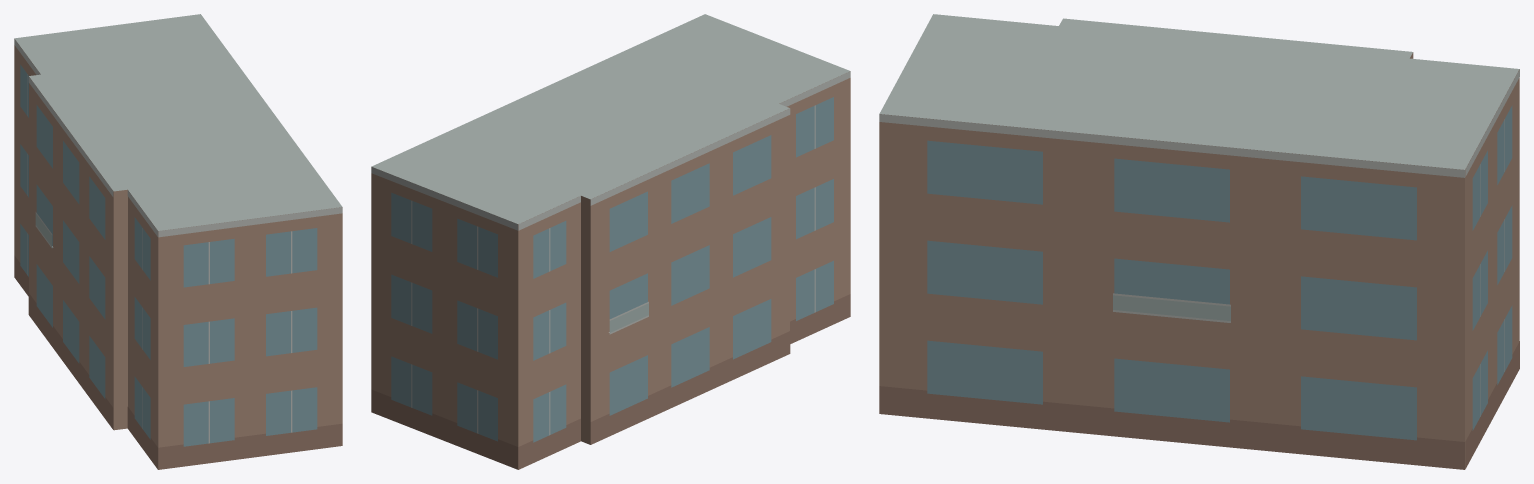
The model's file is survey-upis-32803882.glb.
3 views of the same model, side by side, from view 1: azimuth 30°, elevation 25°; view 2: azimuth 150°, elevation 25°; view 3: azimuth 270°, elevation 25° (orthographic). The views are drawn at different scales.
Parts seen in each view (by area): view 1: survey-upis-32803882.tmp; view 2: survey-upis-32803882.tmp; view 3: survey-upis-32803882.tmp.
Part boxes in pixels (x1,y1,x2,y2): survey-upis-32803882.tmp: (14,14,342,469); survey-upis-32803882.tmp: (371,14,850,469); survey-upis-32803882.tmp: (879,14,1519,469).
Bounding box in the file's own units: 10.21 × 9.15 × 17.71.
